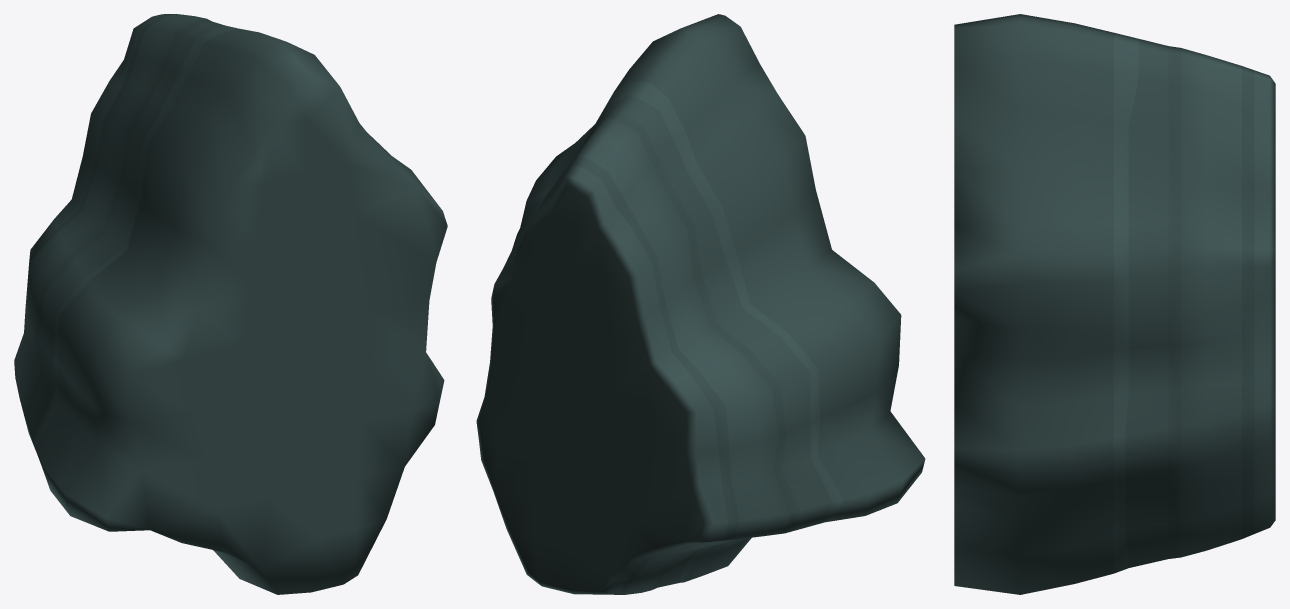
Rendered from AlienPlateuLarge.002.glb.
The picture shows the model from 3 angles, left to right: view 1: azimuth 30°, elevation 25°; view 2: azimuth 150°, elevation 25°; view 3: azimuth 270°, elevation 25°; orthographic projection. The views are drawn at different scales.
Parts seen in each view (by area): view 1: AlienPlateuLarge.002; view 2: AlienPlateuLarge.002; view 3: AlienPlateuLarge.002.
Part boxes in pixels (x1,y1,x2,y2): AlienPlateuLarge.002: (14,14,447,594); AlienPlateuLarge.002: (476,14,925,594); AlienPlateuLarge.002: (954,14,1275,594).
Size of the model in its own units: 3810 by 5424 by 2844.
